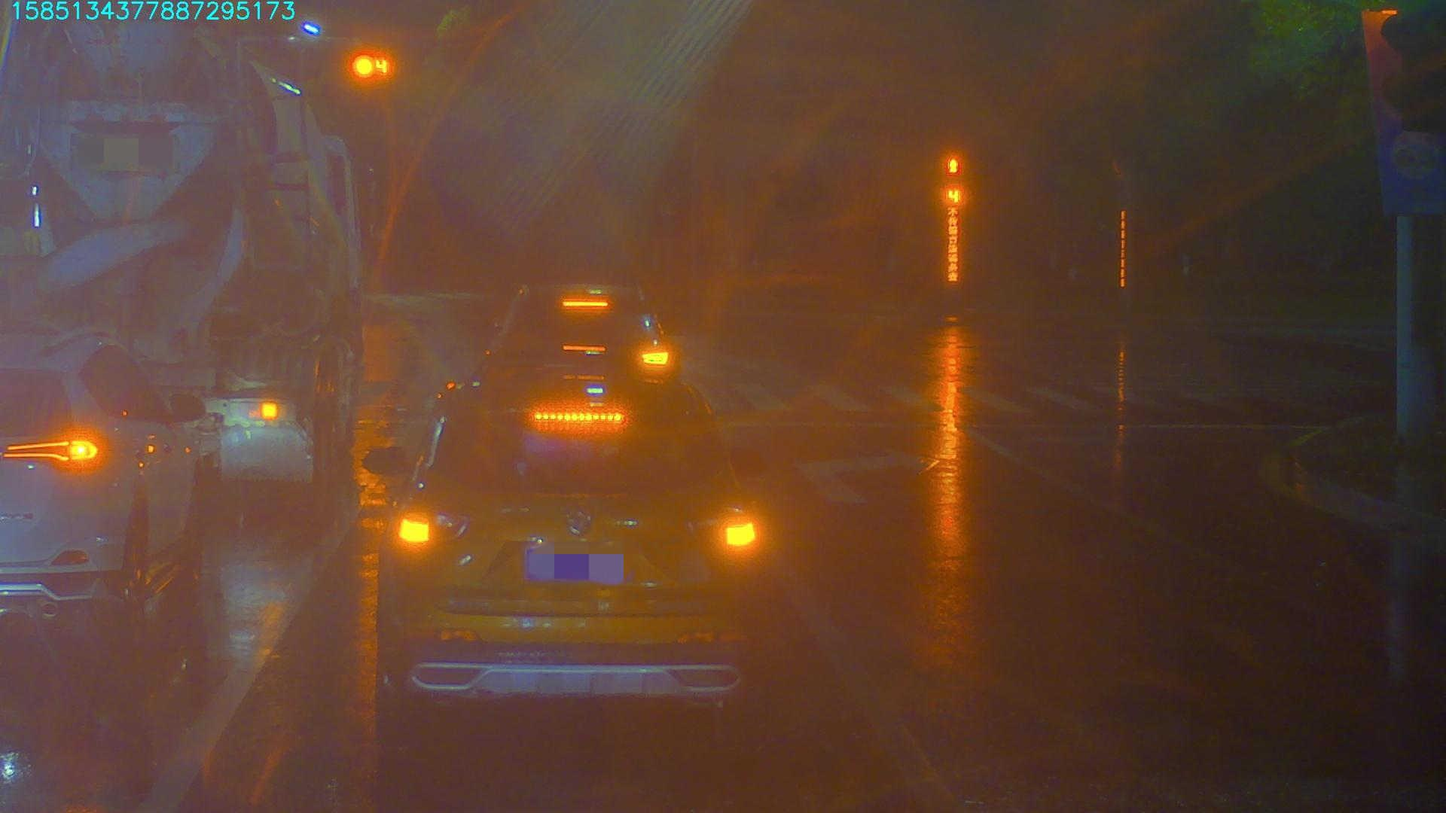red: (347, 50, 396, 80)
